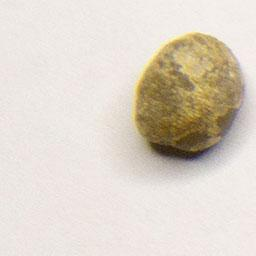peaberry: (131, 28, 248, 155)
